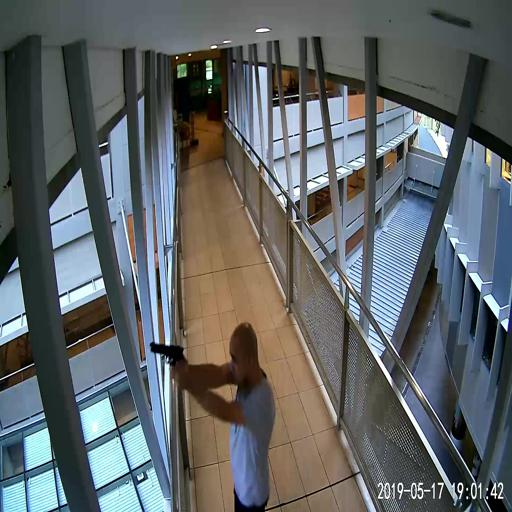pistol: (148, 337, 192, 391)
